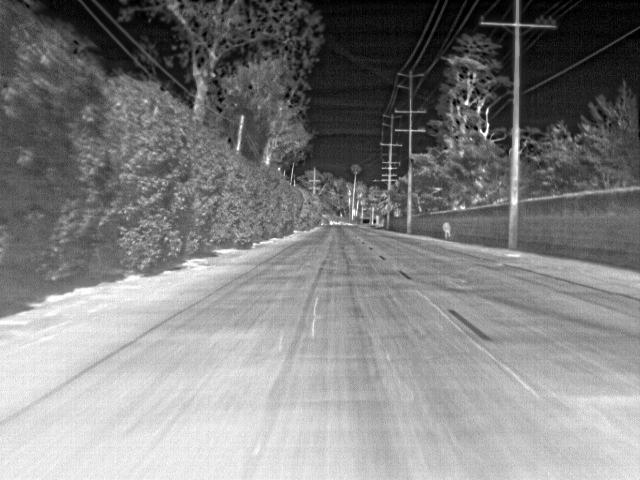person: (441, 222, 454, 238)
